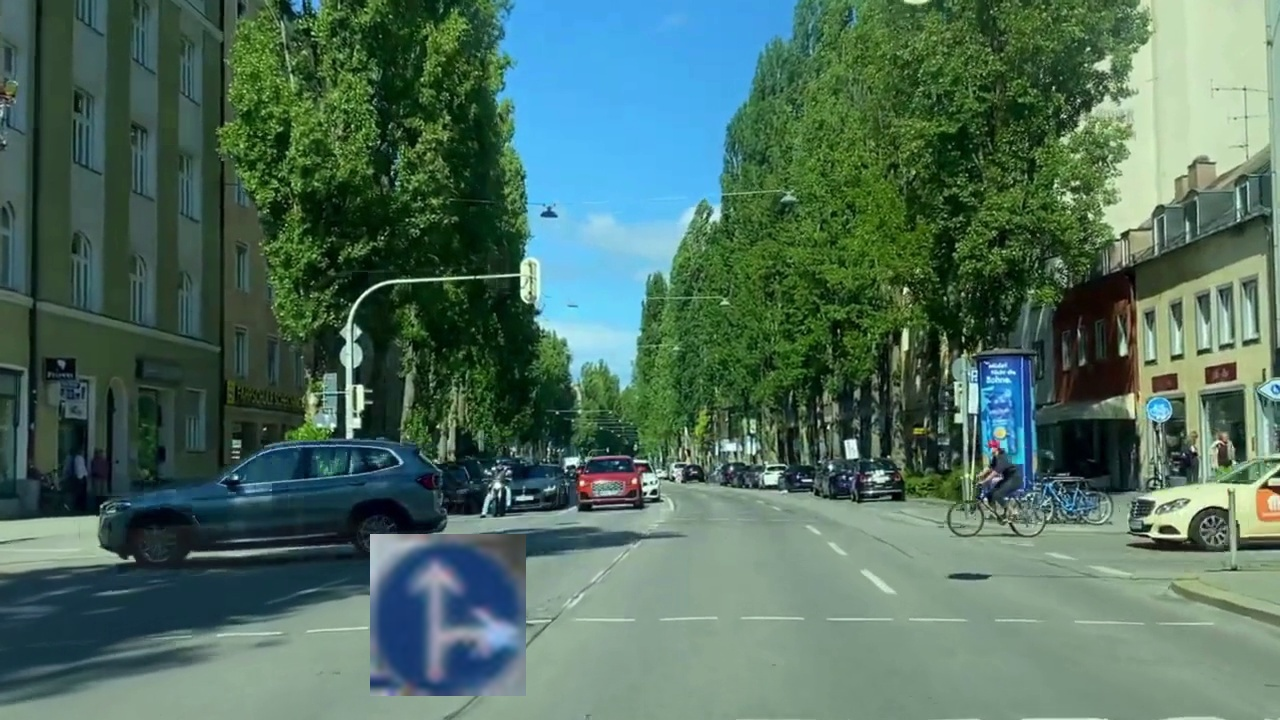Straight/right: (370, 534, 526, 696)
